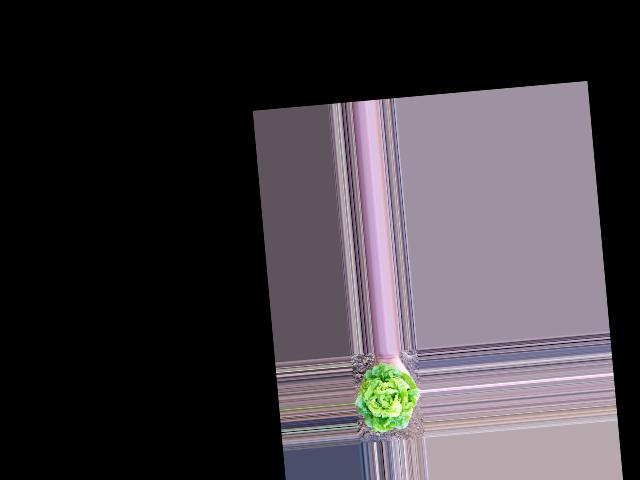lettuce: (354, 364, 421, 435)
